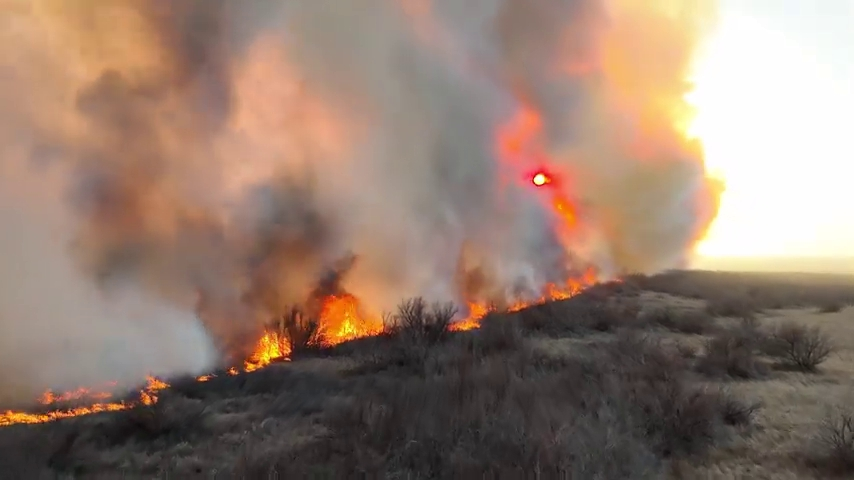forest_fire: (0, 376, 168, 426), (510, 270, 594, 310), (321, 296, 378, 343), (228, 333, 292, 374), (39, 388, 109, 405), (452, 303, 493, 329)
